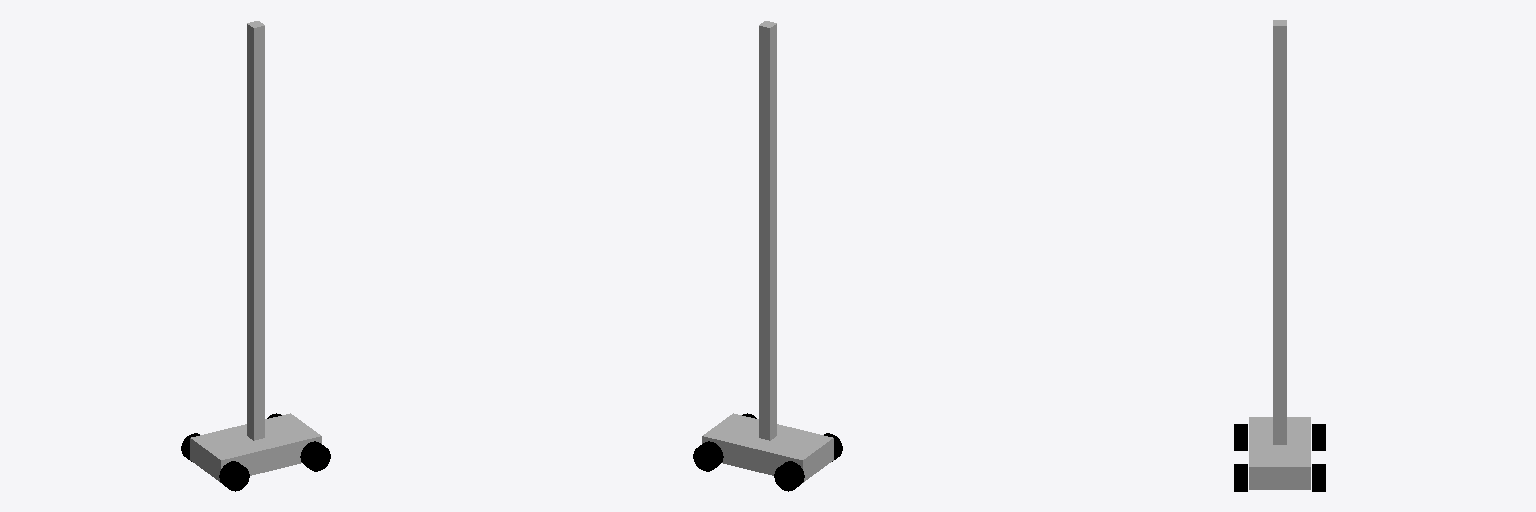
robot.urdf — tortoisebot:
<?xml version="1.0"?>
<robot name="tortoisebot">

  <link name="base_link">
    <visual>
      <geometry>
        <box size="0.432 0.231 0.0925"/>
      </geometry>
      <material name="silver">
        <color rgba="0.75 0.75 0.75 1"/>
      </material>
    </visual>
    <collision>
      <geometry>
        <box size="0.432 0.231 0.0925"/>
      </geometry>
    </collision>
    <inertial>
      <mass value="9"/>
      <inertia ixx="0.1464" iyy="0.17999" izz="0.04644" ixy="0" ixz="0" iyz="0"/>
    </inertial>
  </link>

  <link name="lift">
    <visual>
      <geometry>
        <box size="0.05 0.05 1.7"/>
      </geometry>
      <material name="silver"/>
    </visual>
    <collision>
      <geometry>
        <box size="0.05 0.05 1.7"/>
      </geometry>
    </collision>
    <inertial>
      <mass value="6"/>
      <inertia ixx="1.4463" iyy="0.0025" izz="1.4463" ixy="0" ixz="0" iyz="0"/>
    </inertial>
  </link>

  <joint name="lift_joint" type="fixed">
    <axis xyz="0 0 1"/>
    <parent link="base_link"/>
    <child link="lift"/>
    <origin rpy="0 0 0" xyz="0 0 0.89"/>
  </joint>

  <link name="back_right_wheel">
    <visual>
      <geometry>
        <cylinder length="0.05" radius="0.0508"/>
      </geometry>
      <material name="black">
        <color rgba="0 0 0 1"/>
      </material>
    </visual>
    <collision>
      <geometry>
        <cylinder length="0.05" radius="0.0508"/>
      </geometry>
    </collision>
    <inertial>
      <mass value="0.05"/>
      <inertia ixx="0.000042675" iyy="0.000042675" izz="0.000064516" ixy="0" ixz="0" iyz="0"/>
    </inertial>
  </link>

  <joint name="back_right_wheel_joint" type="continuous">
    <axis xyz="0 0 1"/>
    <parent link="base_link"/>
    <child link="back_right_wheel"/>
    <origin rpy="-1.5708 0 0" xyz="-0.1742 -0.142 -.0178"/>
  </joint>

  <link name="front_right_wheel">
    <visual>
      <geometry>
        <cylinder length="0.05" radius="0.0508"/>
      </geometry>
      <material name="black">
        <color rgba="0 0 0 1"/>
      </material>
    </visual>
    <collision>
      <geometry>
        <cylinder length="0.05" radius="0.0508"/>
      </geometry>
    </collision>
    <inertial>
      <mass value="0.05"/>
      <inertia ixx="0.000042675" iyy="0.000042675" izz="0.000064516" ixy="0" ixz="0" iyz="0"/>
    </inertial>
  </link>

  <joint name="front_right_wheel_joint" type="continuous">
    <axis xyz="0 0 1"/>
    <parent link="base_link"/>
    <child link="front_right_wheel"/>
    <origin rpy="-1.5708 0 0" xyz="0.1742 -0.142 -.0178"/>
  </joint>

  <link name="back_left_wheel">
    <visual>
      <geometry>
        <cylinder length="0.05" radius="0.0508"/>
      </geometry>
      <material name="black"/>
    </visual>
    <collision>
      <geometry>
        <cylinder length="0.05" radius="0.0508"/>
      </geometry>
    </collision>
    <inertial>
      <mass value="0.05"/>
      <inertia ixx="0.000042675" iyy="0.000042675" izz="0.000064516" ixy="0" ixz="0" iyz="0"/>
    </inertial>
  </link>

  <joint name="back_left_wheel_joint" type="continuous">
    <axis xyz="0 0 1"/>
    <parent link="base_link"/>
    <child link="back_left_wheel"/>
    <origin rpy="-1.5708 0 0" xyz="-0.1742 0.142 -.0178"/>
  </joint>



<link name="front_left_wheel">
    <visual>
      <geometry>
        <cylinder length="0.05" radius="0.0508"/>
      </geometry>
      <material name="black"/>
    </visual>
    <collision>
      <geometry>
        <cylinder length="0.05" radius="0.0508"/>
      </geometry>
    </collision>
    <inertial>
      <mass value="0.05"/>
      <inertia ixx="0.000042675" iyy="0.000042675" izz="0.000064516" ixy="0" ixz="0" iyz="0"/>
    </inertial>
  </link>

  <joint name="front_left_wheel_joint" type="continuous">
    <axis xyz="0 0 1"/>
    <parent link="base_link"/>
    <child link="front_left_wheel"/>
    <origin rpy="-1.5708 0 0" xyz="0.1742 0.142 -.0178"/>
  </joint>

  <gazebo>
    <plugin name="differential_drive_controller" filename="libgazebo_ros_diff_drive.so">
      <leftJoint>back_right_wheel_joint</leftJoint>
      <rightJoint>back_left_wheel_joint</rightJoint>
      <robotBaseFrame>base_link</robotBaseFrame>
      <wheelSeparation>0.25</wheelSeparation>
      <wheelDiameter>0.07</wheelDiameter>
      <publishWheelJointState>true</publishWheelJointState>
    </plugin>
  </gazebo>
</robot>

--- What the picture shows (computed from the rendered views, not written in the file) ---
3 views of the same robot in one strip: view 1: azimuth 30°, elevation 25°; view 2: azimuth 150°, elevation 25°; view 3: azimuth 270°, elevation 25° (orthographic).
Robot: tortoisebot — 6 links, 5 joints (4 continuous, 1 fixed); root link base_link; default pose: all joints at 0.
Links seen in each view (by area): view 1: lift, base_link, back_right_wheel, front_right_wheel; view 2: lift, base_link, back_left_wheel, front_left_wheel; view 3: lift, base_link.
Link boxes in pixels (left/top/right/bottom): lift: left=247, top=21, right=264, bottom=440; base_link: left=190, top=413, right=321, bottom=482; back_right_wheel: left=219, top=461, right=249, bottom=491; front_right_wheel: left=300, top=441, right=330, bottom=471; lift: left=759, top=21, right=776, bottom=440; base_link: left=702, top=413, right=833, bottom=482; back_left_wheel: left=774, top=461, right=804, bottom=491; front_left_wheel: left=693, top=441, right=723, bottom=471; lift: left=1273, top=20, right=1286, bottom=444; base_link: left=1249, top=417, right=1310, bottom=489.
Bounding box of the posed robot: 0.45 × 0.334 × 1.81 m (x, y, z).
Geometry: primitives only (box / cylinder / sphere), no mesh files.